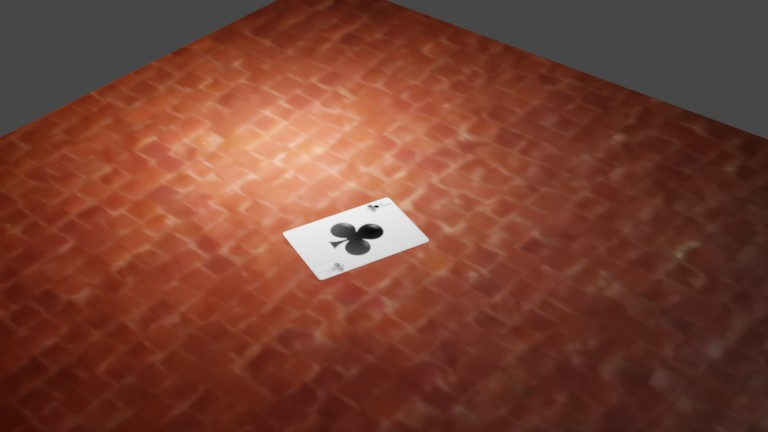jack_of_clubs: (126, 104, 139, 112), (145, 79, 158, 86)
